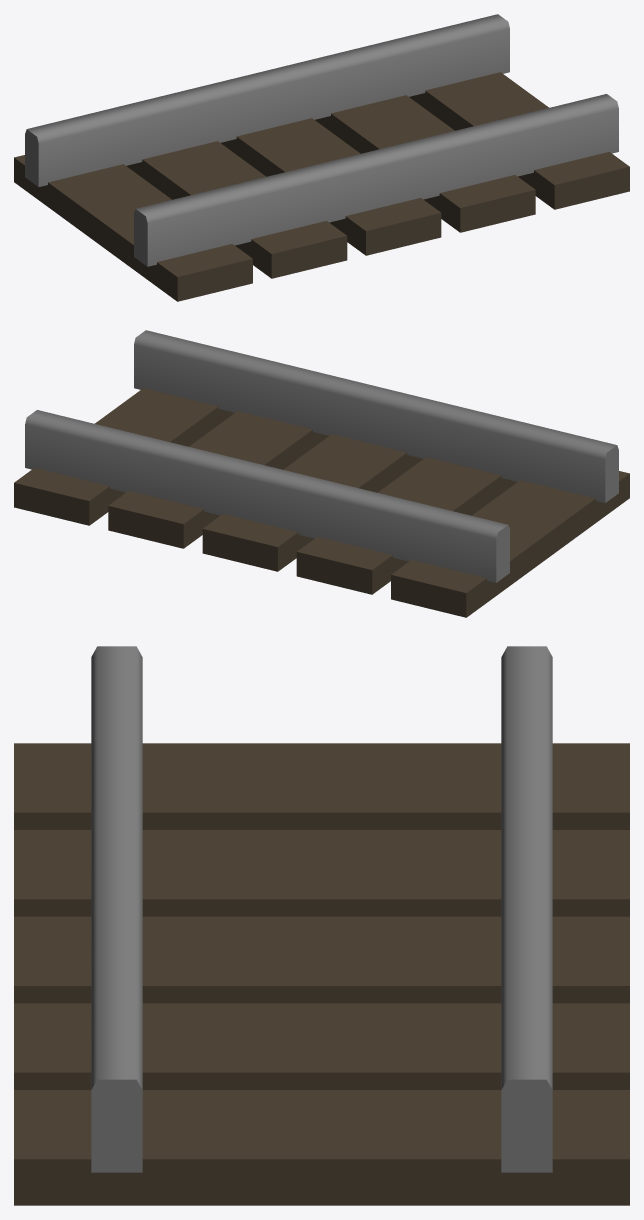
File: minecart-track.fbx
The picture shows the model from 3 angles, top to bottom: view 1: azimuth 30°, elevation 25°; view 2: azimuth 150°, elevation 25°; view 3: azimuth 270°, elevation 25°; orthographic projection. The views are drawn at different scales.
Parts seen in each view (by area): view 1: Cube; view 2: Cube; view 3: Cube.
Part boxes in pixels (left/top/right/bottom): Cube: left=14, top=14, right=629, bottom=301; Cube: left=14, top=330, right=629, bottom=617; Cube: left=14, top=646, right=629, bottom=1205.
Size of the model in its own units: 60.09 by 100 by 14.5.
